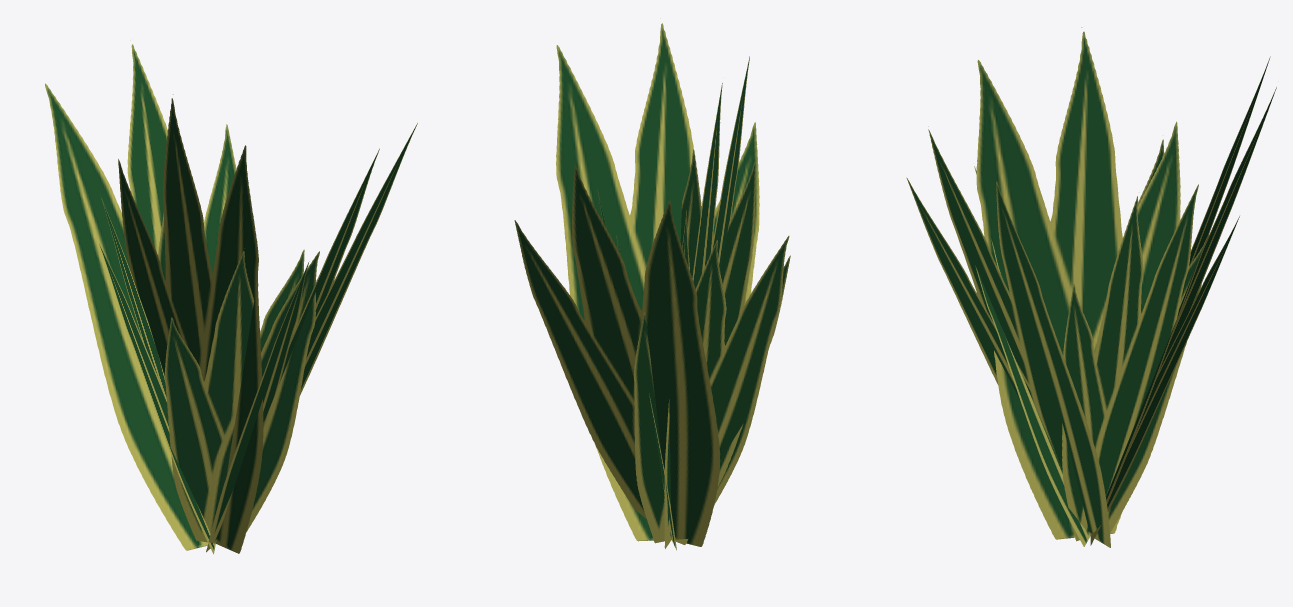
File: PotPlant1.fbx
3 views of the same model, side by side, from view 1: azimuth 30°, elevation 25°; view 2: azimuth 150°, elevation 25°; view 3: azimuth 270°, elevation 25° (orthographic). The views are drawn at different scales.
Visible parts, largest first — view 1: PotPlant1; view 2: PotPlant1; view 3: PotPlant1.
Boxes of the visible parts, bbox=[...] form: PotPlant1: bbox=[45, 40, 417, 554]; PotPlant1: bbox=[514, 18, 790, 550]; PotPlant1: bbox=[906, 27, 1276, 547].
Bounding box in the file's own units: 209 × 294 × 234.
